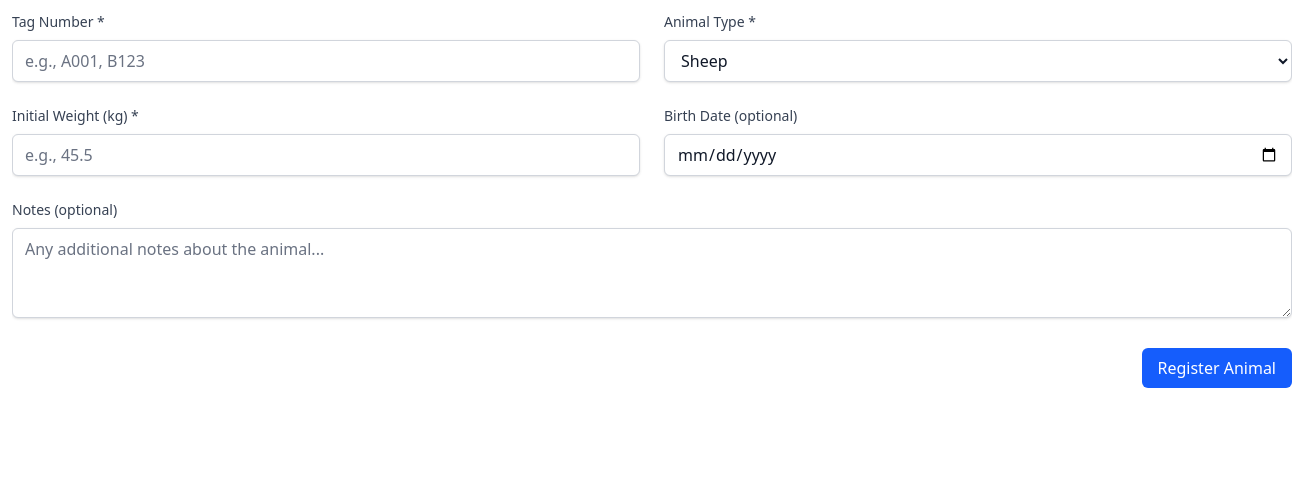
Test: AnimalRegistrationForm › should show error message on failed submission
In the field labelled "Tag Number *": (326, 61) [12, 40, 640, 82], type "A001"
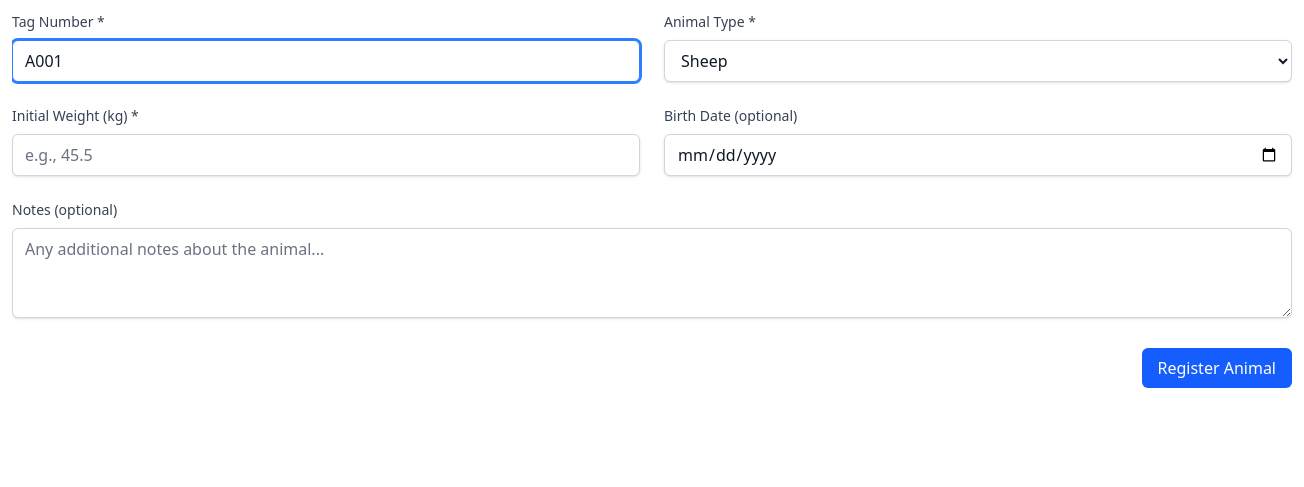
In the number field labelled "Initial Weight (kg) *": (326, 155) [12, 134, 640, 176], type "45.5"
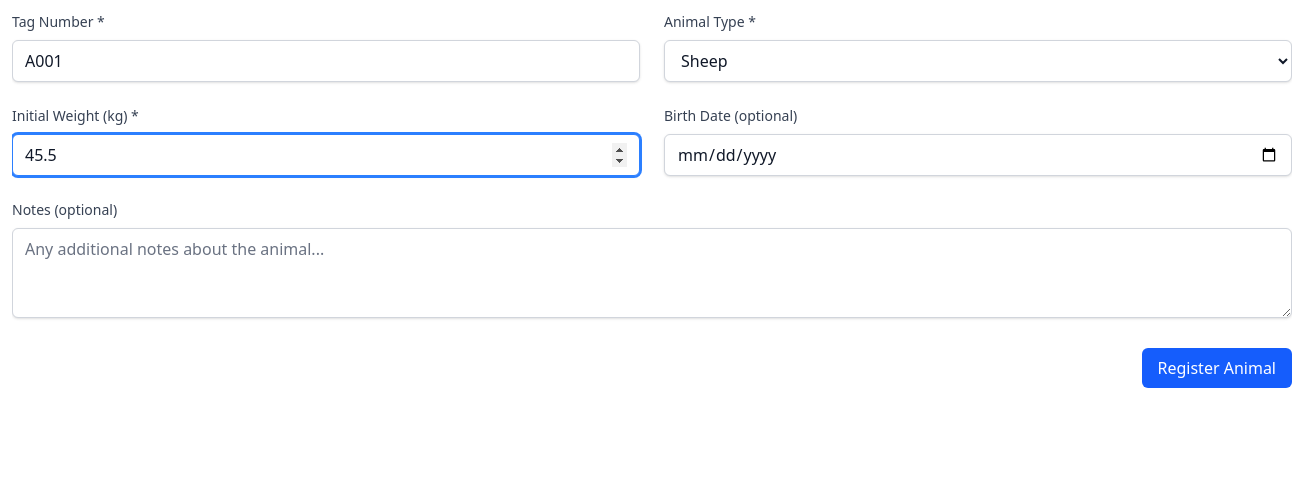
Click the button "Register Animal": (1217, 368) [1142, 348, 1292, 388]
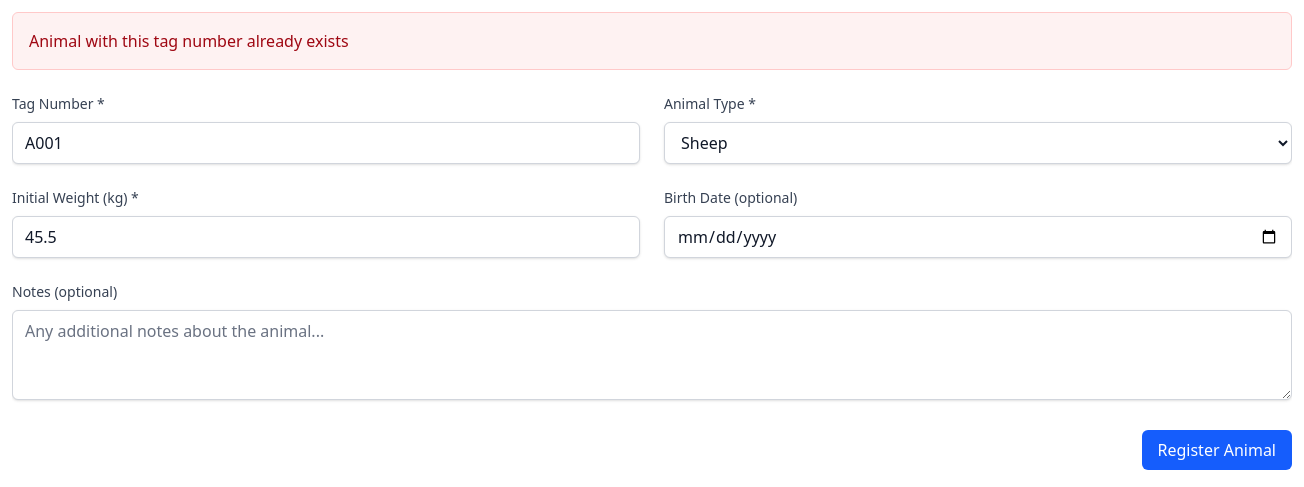
Expected: the text "Animal with this tag number already exists" is shown, [12, 12, 1292, 70]
